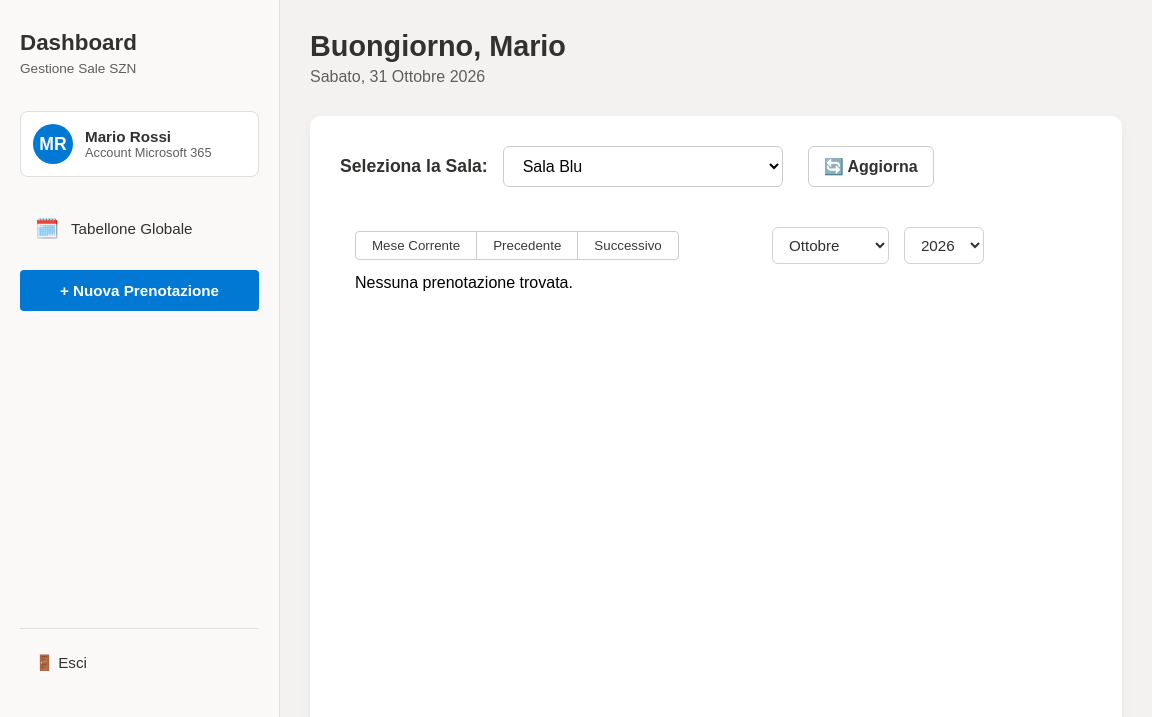
Vista Globale con Risultato Parziale › Comportamento UI App in Vista Globale › risposta completa: non mostra banner e salva in cache
// Passa a Vista Globale
Click the button with class "bottone-menu" showing "🗓️ Tabellone Globale" at [140, 228], box [20,207,259,250]
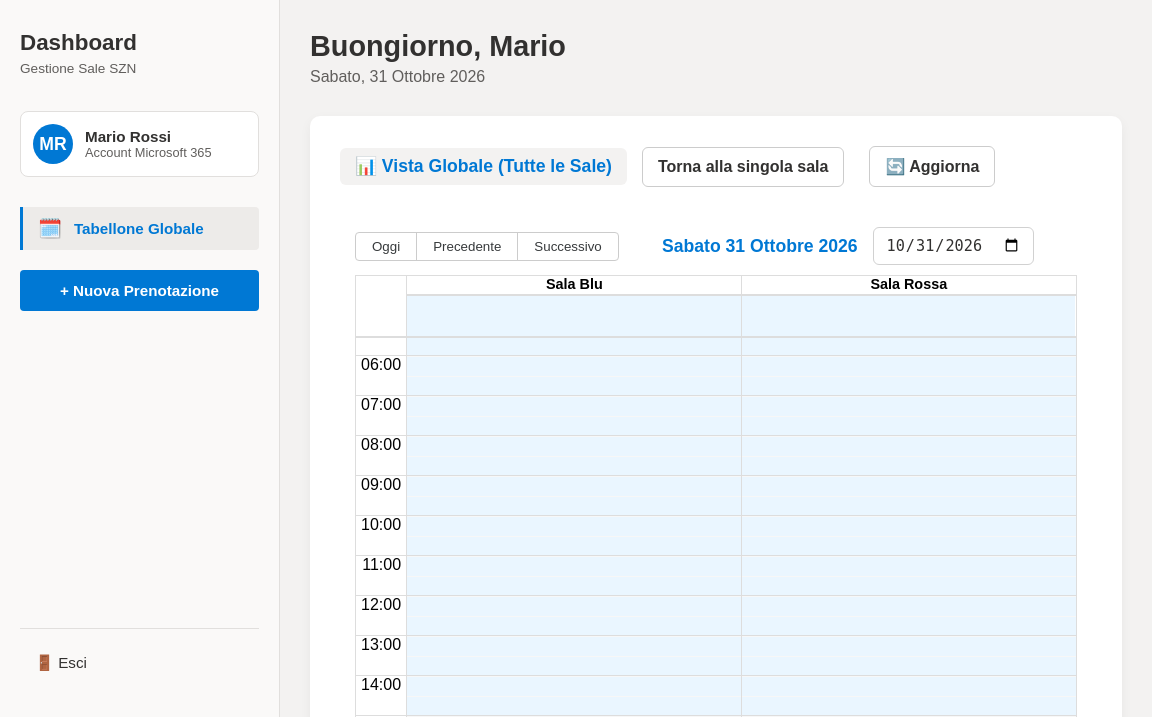
Now the text "📊 Vista Globale (Tutte le Sale)" is shown, box [340,148,627,185]
